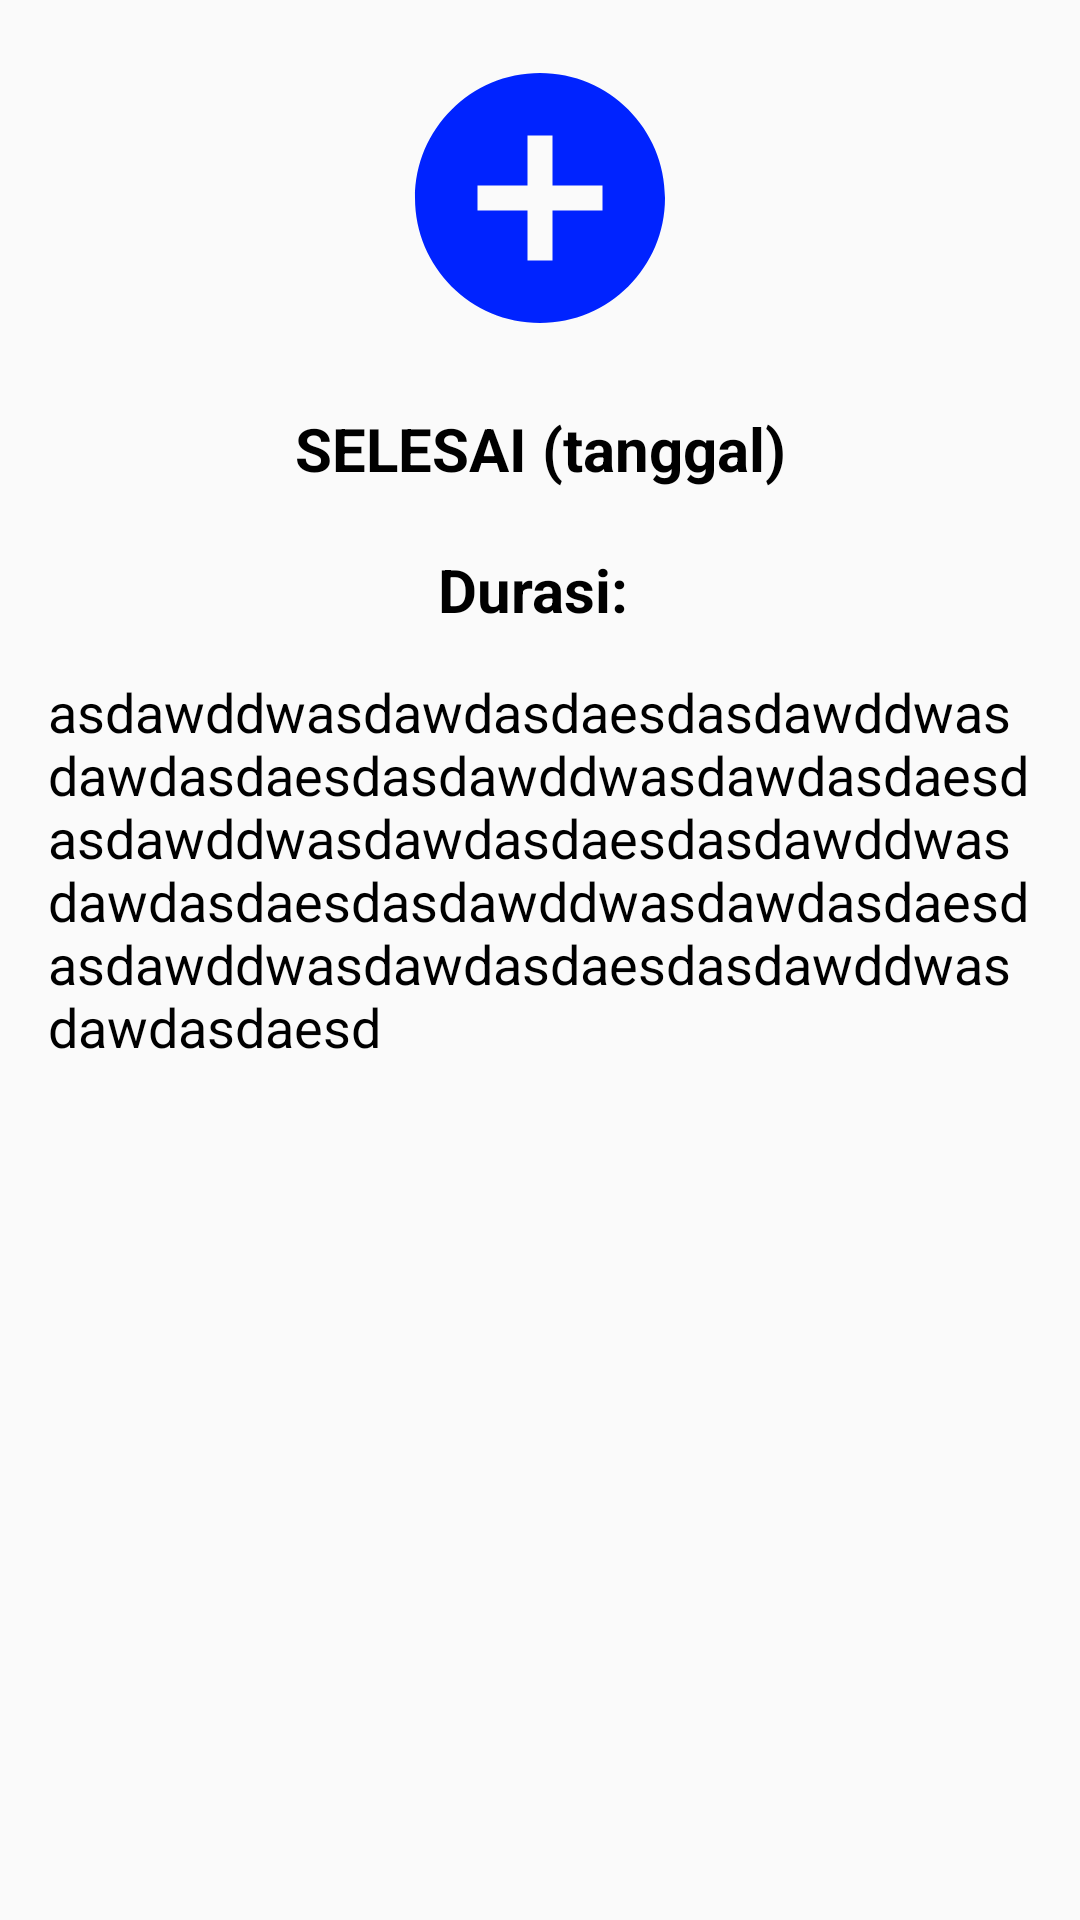

Named icons in this screenshot (1080px x 1920px) and their centers, [x,y]:
add circle: [540,198]
